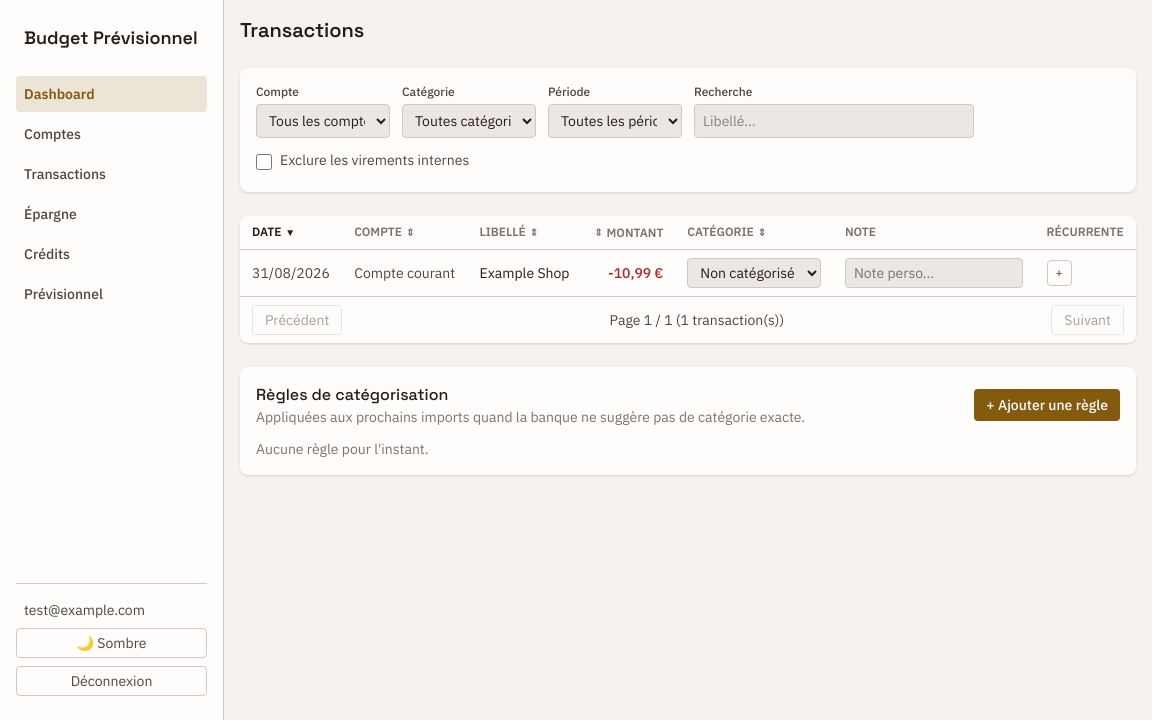
Test case: TransactionsPage › closes the dialog on Escape without creating anything
The image size is (1152, 720).
expect the text "Example Shop" is shown: met, box [468,249,582,296]
Click the button named "Marquer Example Shop comme dépense récurrente": (1059, 273) [1046,260,1072,286]
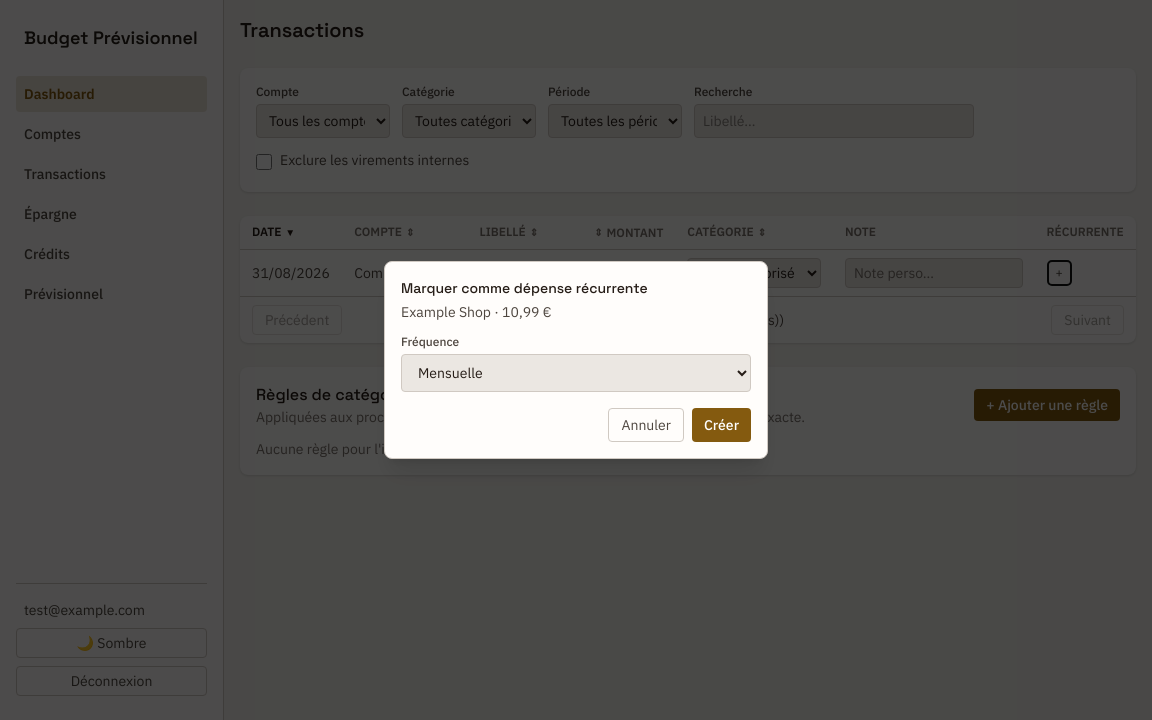
expect the dialog is shown: met, box [384,261,768,459]
Press Escape
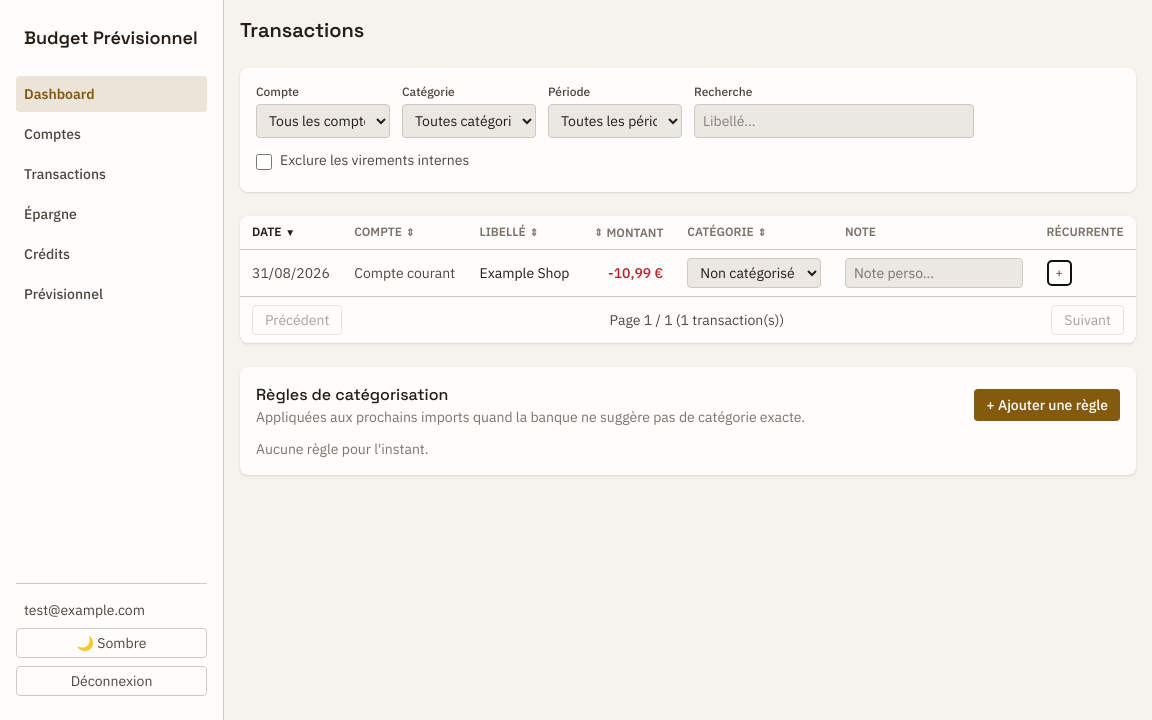
expect the dialog is gone: met
